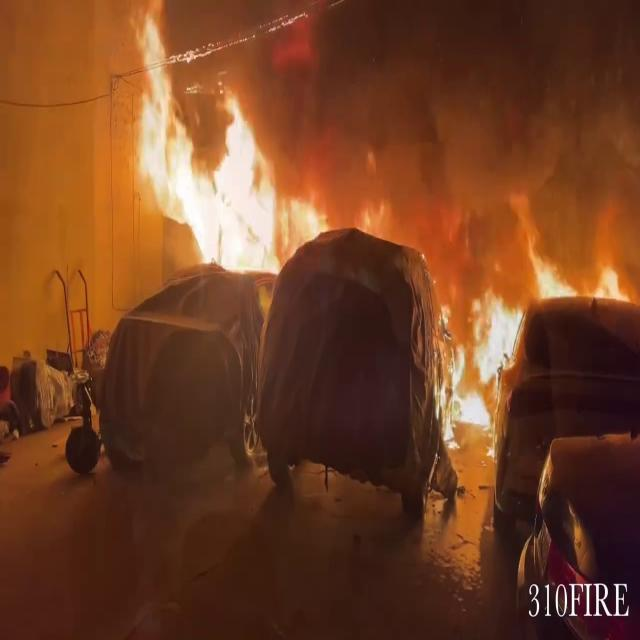Fire: (129, 18, 325, 289), (436, 287, 526, 445)
Smoke: (379, 0, 639, 280)
